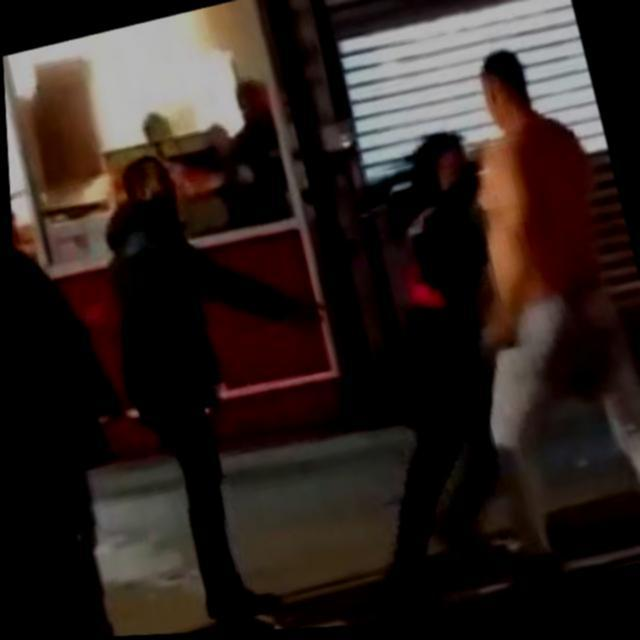fight: (278, 38, 640, 616)
